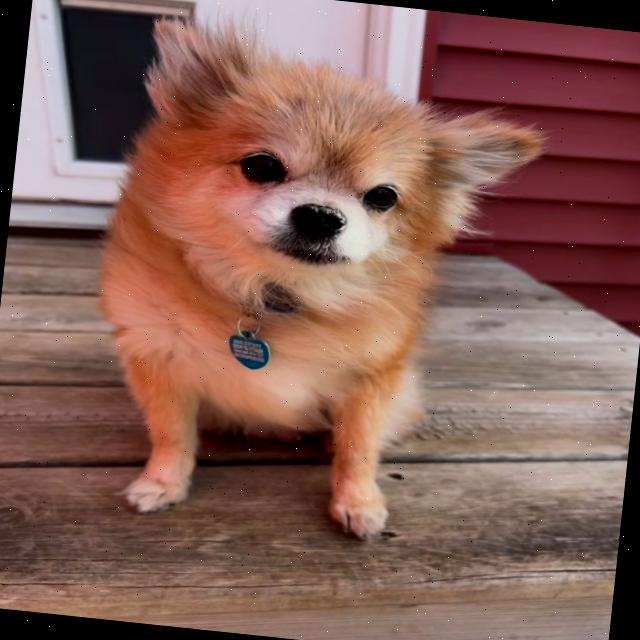pomeranian_dog: (89, 3, 562, 347)
